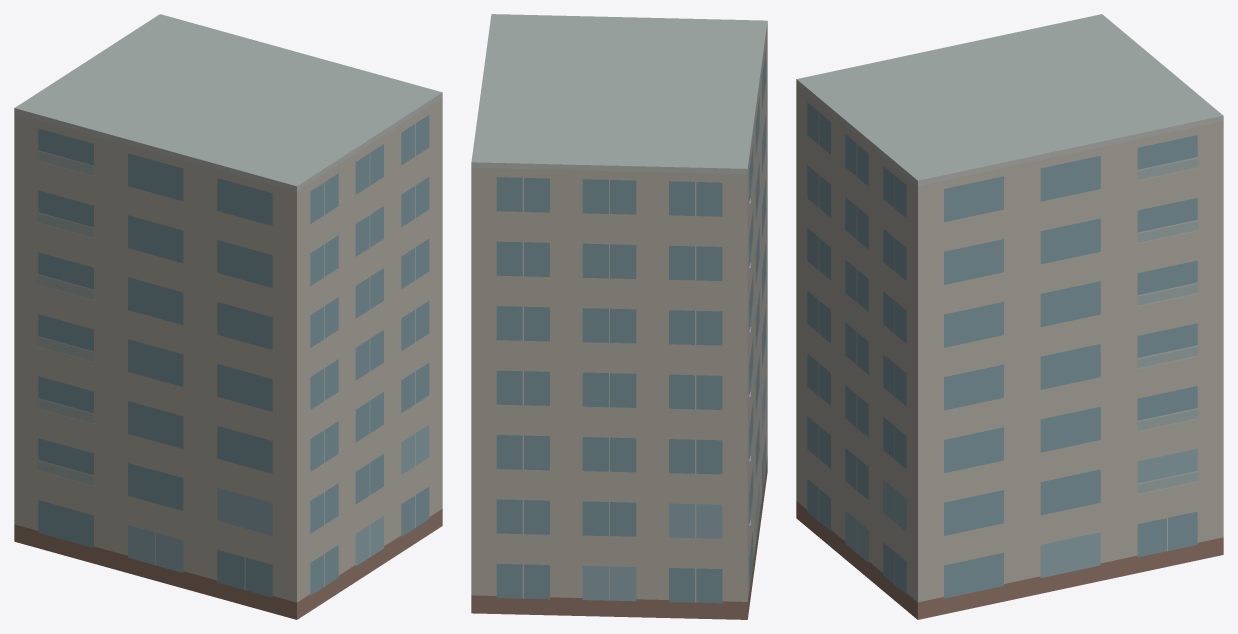
The model's file is survey-upis-32753000.glb.
3 views of the same model, side by side, from view 1: azimuth 30°, elevation 25°; view 2: azimuth 150°, elevation 25°; view 3: azimuth 270°, elevation 25° (orthographic). The views are drawn at different scales.
Parts seen in each view (by area): view 1: survey-upis-32753000.tmp; view 2: survey-upis-32753000.tmp; view 3: survey-upis-32753000.tmp.
Part boxes in pixels (x1=…): survey-upis-32753000.tmp: x1=14, y1=14, x2=442, y2=619; survey-upis-32753000.tmp: x1=471, y1=14, x2=767, y2=619; survey-upis-32753000.tmp: x1=796, y1=14, x2=1223, y2=619.
Bounding box in the file's own units: 16.21 × 19.9 × 17.55.
